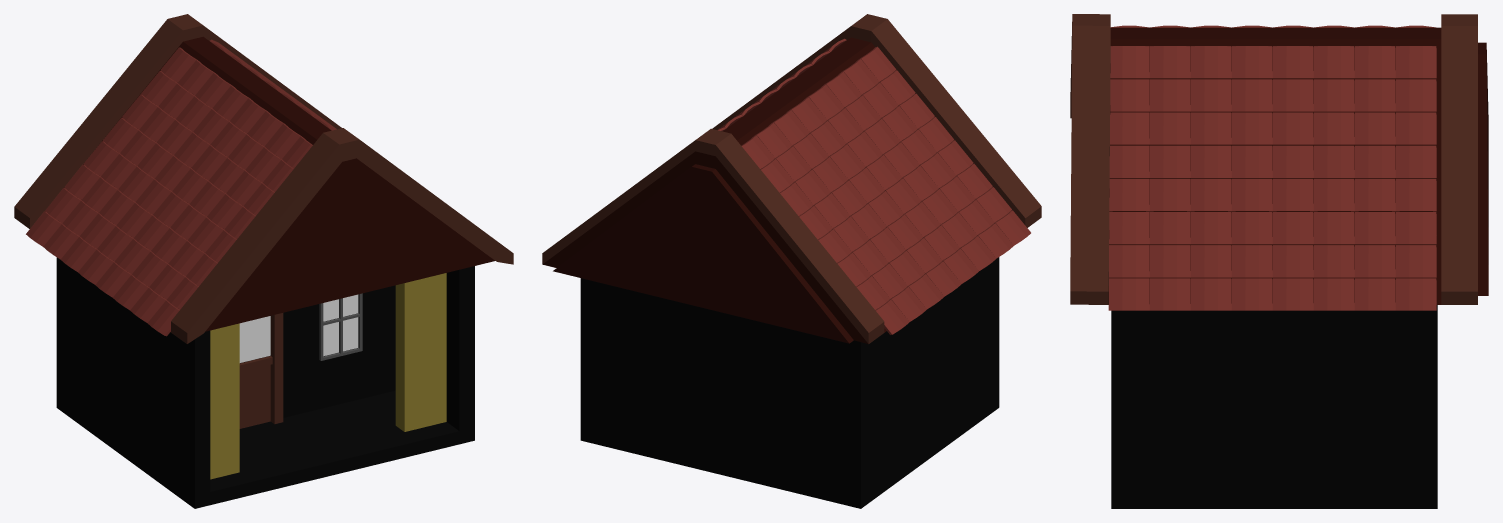
File: rumah npc 2.fbx
The picture shows the model from 3 angles, left to right: view 1: azimuth 30°, elevation 25°; view 2: azimuth 150°, elevation 25°; view 3: azimuth 270°, elevation 25°; orthographic projection. The views are drawn at different scales.
Visible parts, largest first — view 1: Plane.024, Plane.030, Plane.029, Plane.028, Plane.026, Plane.027, Plane.025; view 2: Plane.024, Plane.030, Plane.029, Plane.026, Plane.028; view 3: Plane.030, Plane.024, Plane.029, Plane.028, Plane.026.
Part boxes in pixels (x1=…): Plane.024: x1=56, y1=257, x2=474, y2=508; Plane.030: x1=26, y1=39, x2=336, y2=336; Plane.029: x1=45, y1=36, x2=494, y2=332; Plane.028: x1=171, y1=128, x2=513, y2=343; Plane.026: x1=14, y1=14, x2=341, y2=228; Plane.027: x1=239, y1=313, x2=283, y2=428; Plane.025: x1=319, y1=293, x2=362, y2=360; Plane.024: x1=580, y1=257, x2=999, y2=508; Plane.030: x1=717, y1=38, x2=1030, y2=334; Plane.029: x1=542, y1=37, x2=886, y2=343; Plane.026: x1=542, y1=128, x2=884, y2=343; Plane.028: x1=712, y1=14, x2=1041, y2=227; Plane.030: x1=1108, y1=25, x2=1436, y2=310; Plane.024: x1=1111, y1=305, x2=1437, y2=508; Plane.029: x1=1108, y1=27, x2=1488, y2=304; Plane.028: x1=1070, y1=14, x2=1110, y2=304; Plane.026: x1=1441, y1=14, x2=1477, y2=304.
Size of the model in its own units: 1359 by 1313 by 1223.
